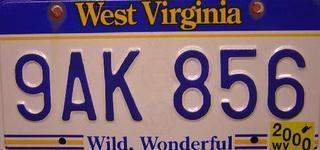placa de veiculo: (2, 1, 317, 150)
